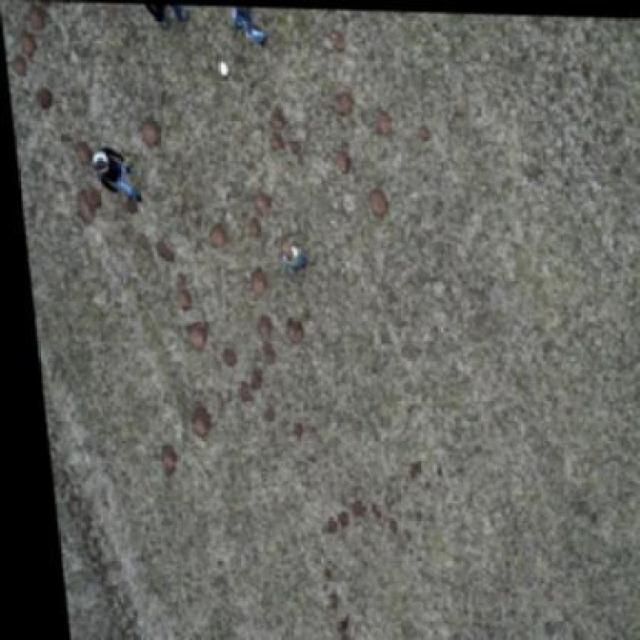Person: (86, 136, 149, 212), (221, 5, 277, 48), (126, 3, 191, 32)
